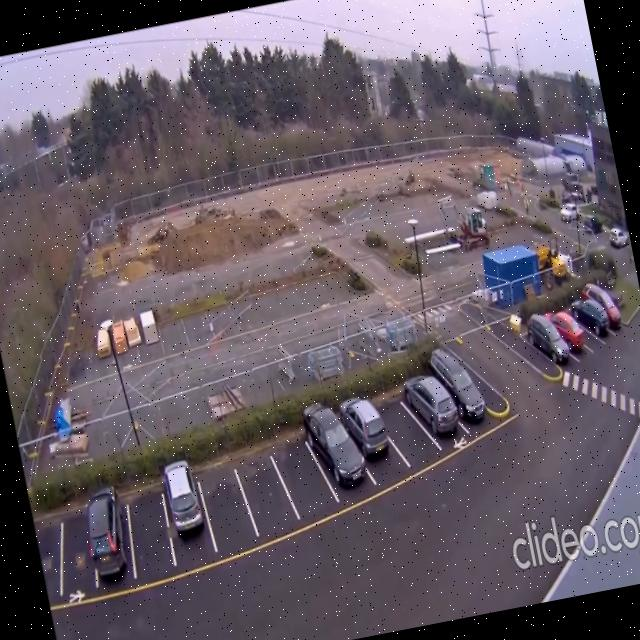empty: (198, 462, 263, 546), (234, 451, 299, 532), (271, 442, 342, 511), (129, 493, 177, 572), (62, 519, 100, 605)
occupied: (293, 400, 362, 496), (92, 482, 133, 580), (161, 458, 209, 540), (410, 376, 465, 446), (432, 351, 487, 416), (345, 392, 385, 453), (526, 316, 562, 369), (587, 273, 620, 324), (578, 290, 609, 342), (556, 302, 587, 353)
